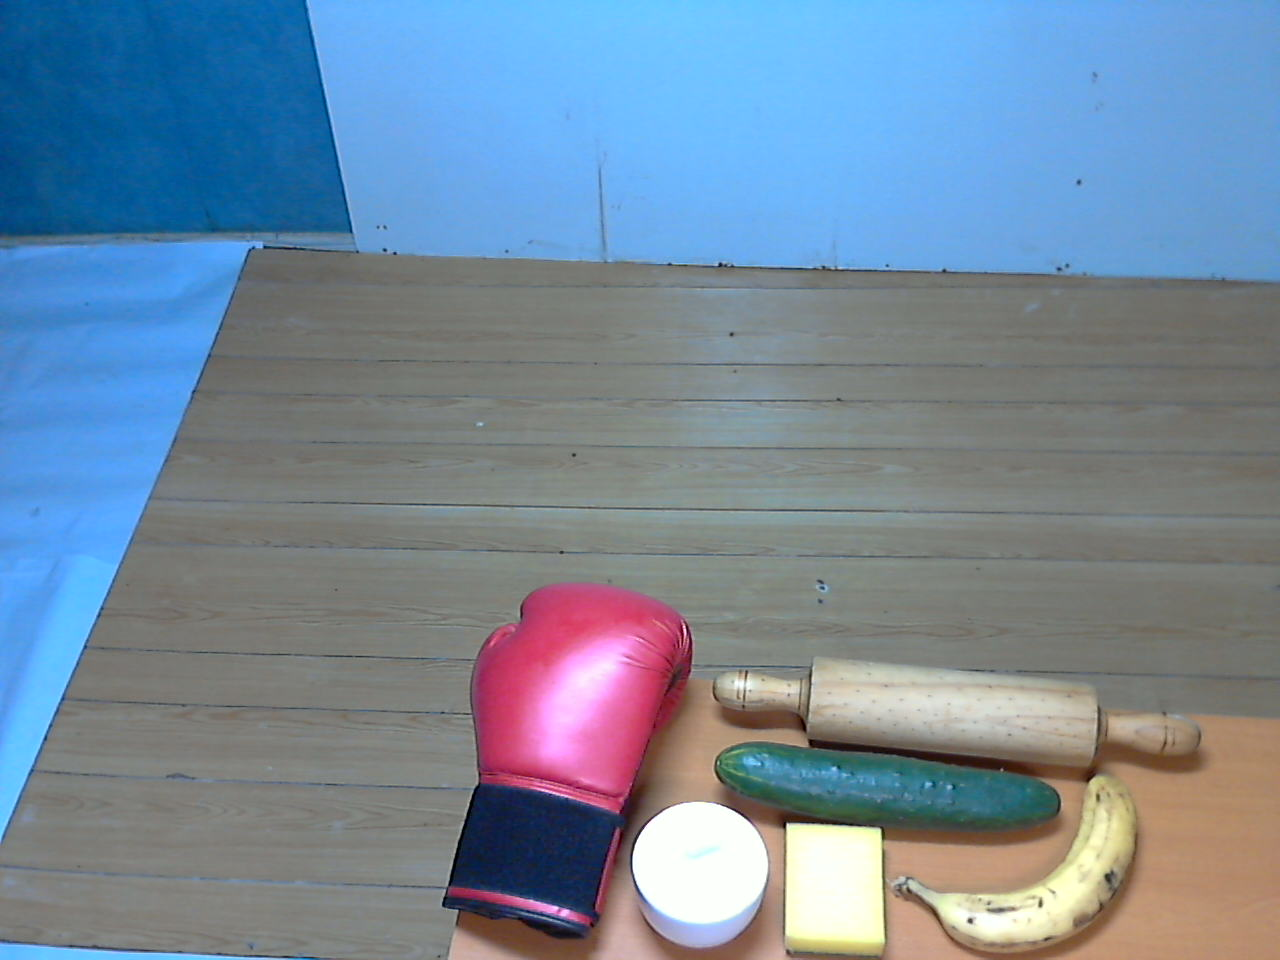azucarero: (626, 792, 777, 960)
esponja: (770, 810, 897, 960)
guante: (430, 570, 696, 942)
pepino: (705, 731, 1069, 841)
platano: (874, 763, 1160, 960)
uslero: (713, 650, 1211, 775)
